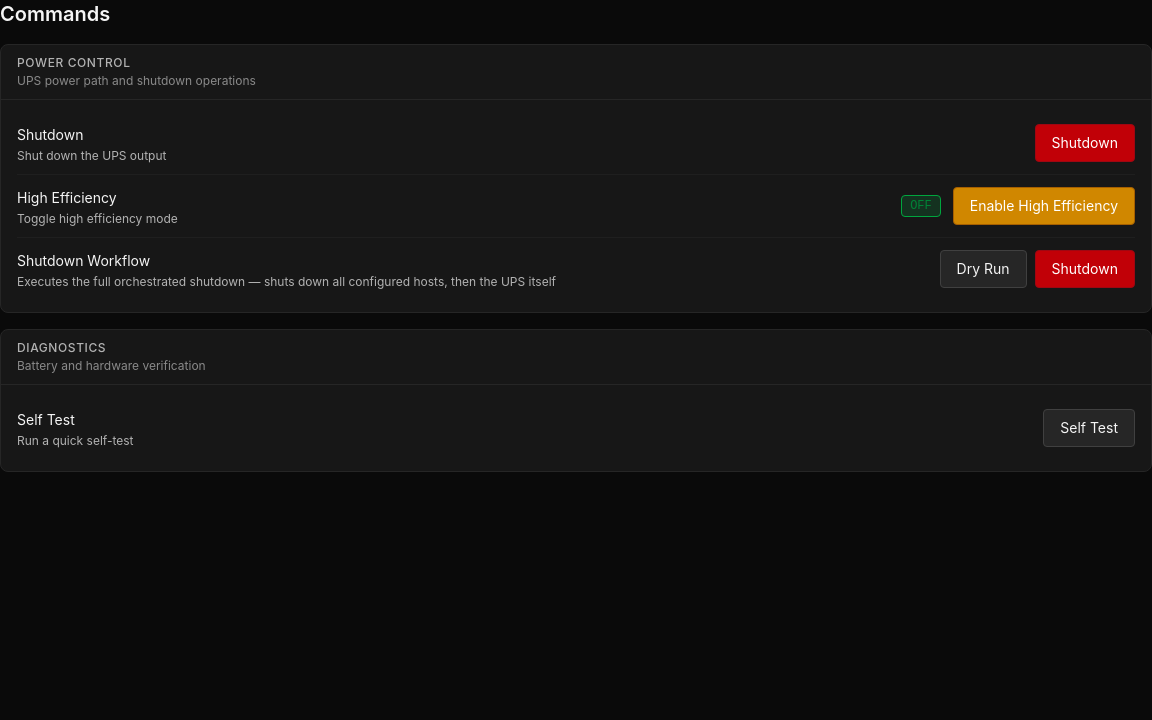
Test case: Commands › executes simple command and shows toast
The image size is (1152, 720).
Expected: the text "Run a quick self-test" is shown, 17,433 -> 134,449
Click the button "Self Test" at (1089, 428), box 1043,409 -> 1135,447
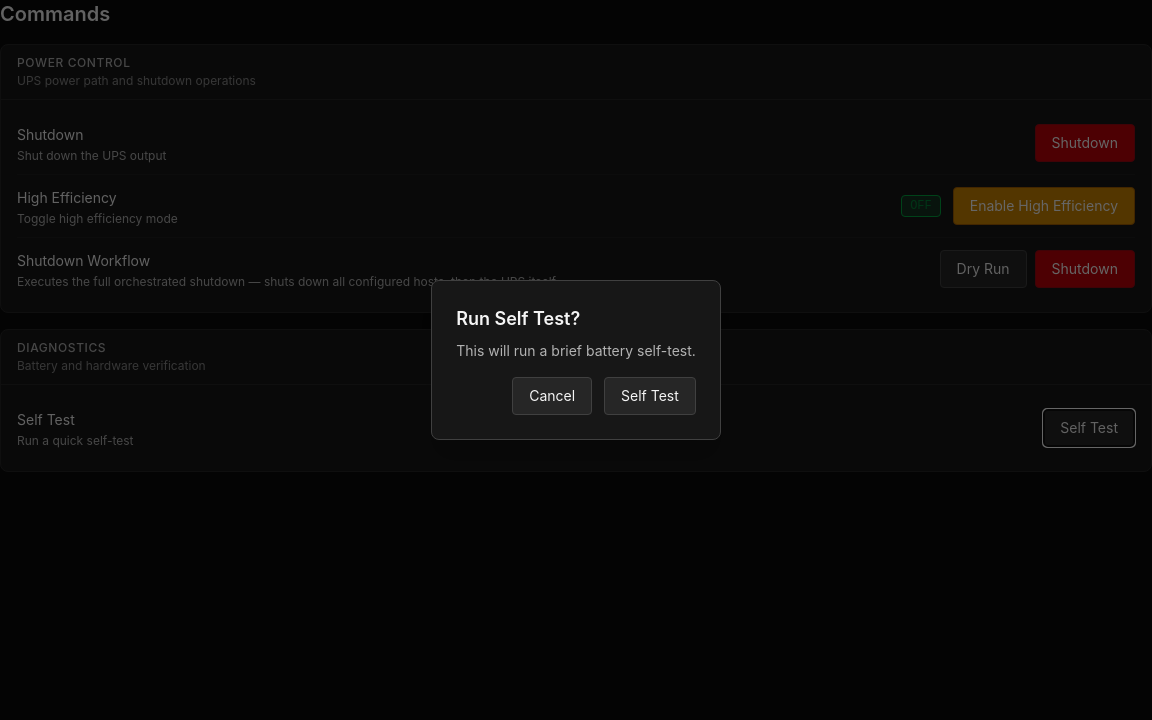
Now the heading "Run Self Test?" is shown, box 456,308 -> 580,329
Click the button "Self Test" below "This will run a brief battery self-test." at (650, 396), box 604,377 -> 696,415
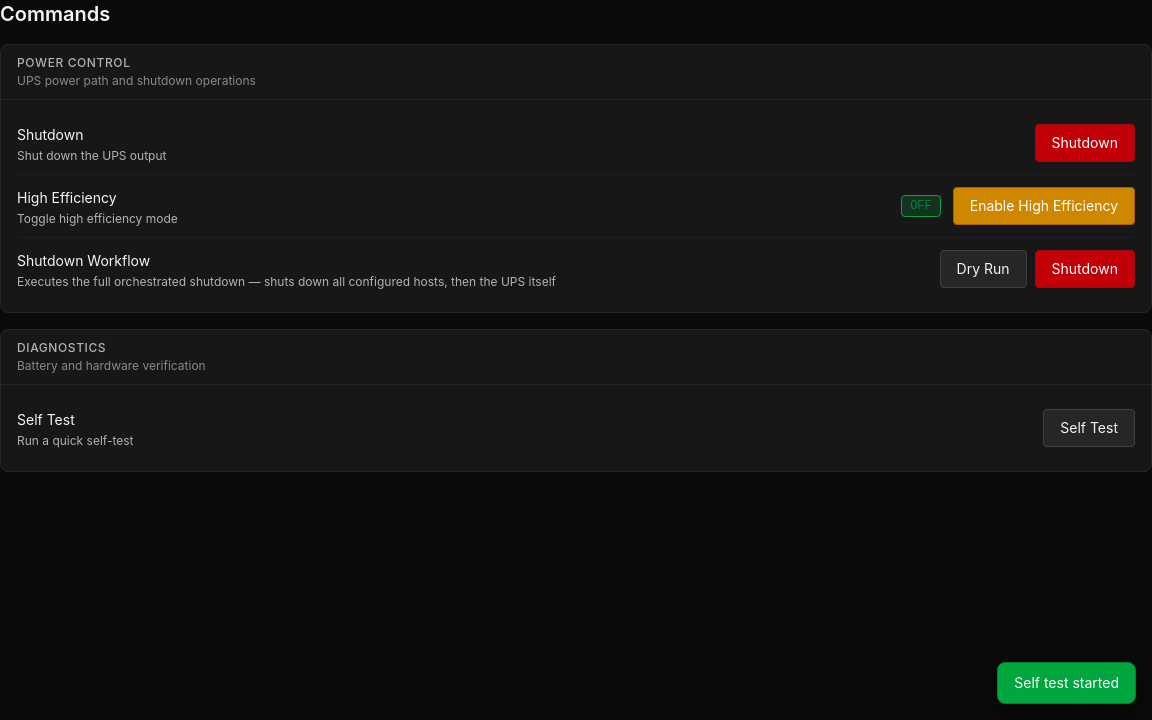
Now the text "Self test started" is shown, box 997,662 -> 1136,704
